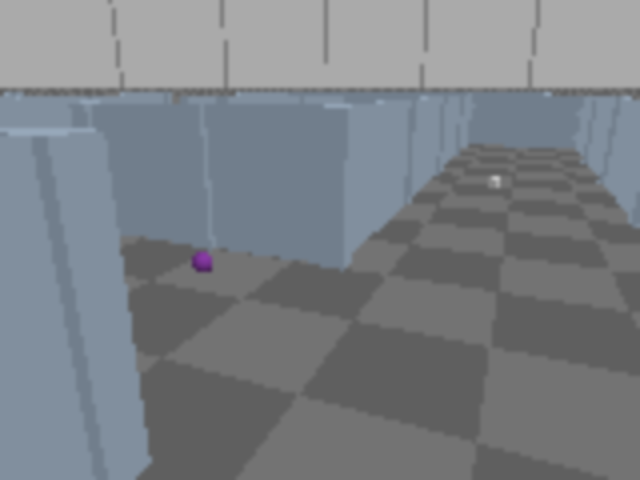puck: (189, 250, 216, 276)
